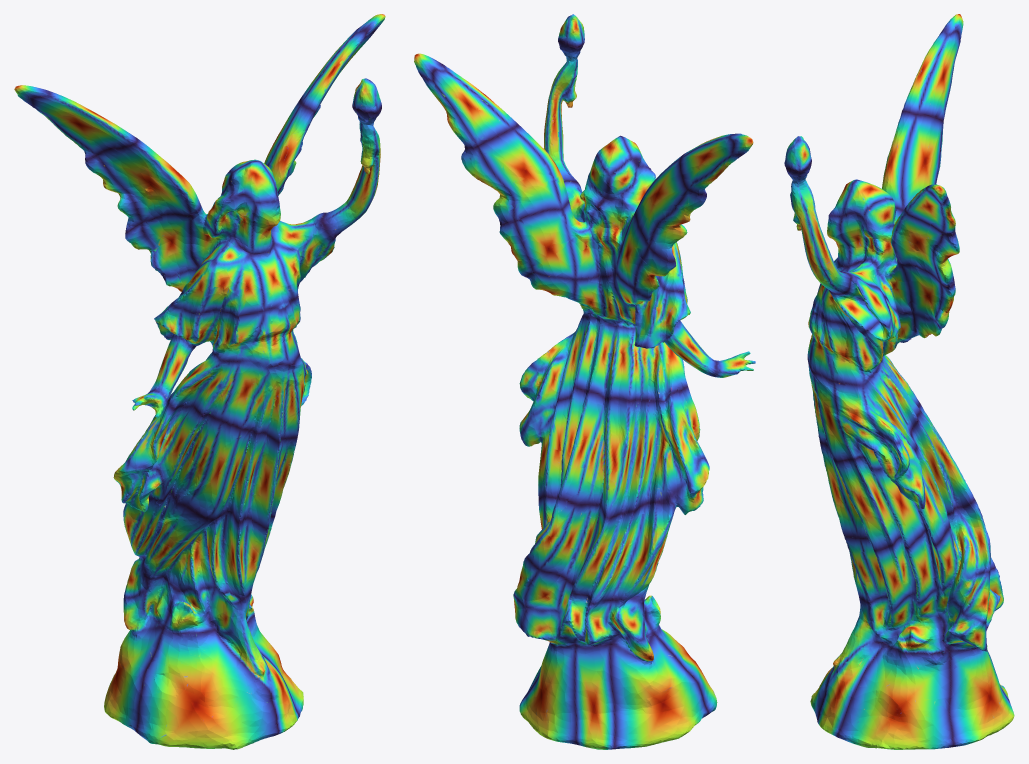
File: gen1.glb
3 views of the same model, side by side, from view 1: azimuth 30°, elevation 25°; view 2: azimuth 150°, elevation 25°; view 3: azimuth 270°, elevation 25° (orthographic). The views are drawn at different scales.
Visible parts, largest first — view 1: Node; view 2: Node; view 3: Node.
Part boxes in pixels (bbox=[...]): Node: bbox=[14, 14, 385, 749]; Node: bbox=[414, 14, 755, 749]; Node: bbox=[784, 14, 1014, 749].
Size of the model in its own units: 919 by 1583 by 526.
1 material, 1 textured.
